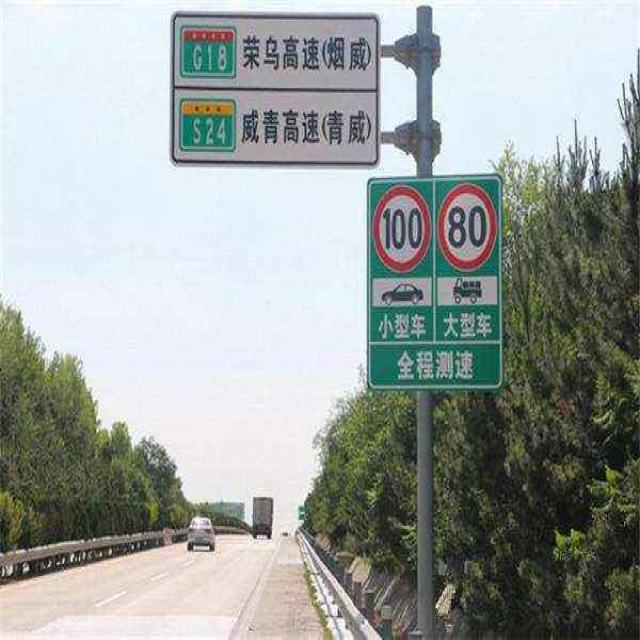speed limit 100: (372, 180, 433, 275)
speed limit 80: (436, 179, 499, 273)
